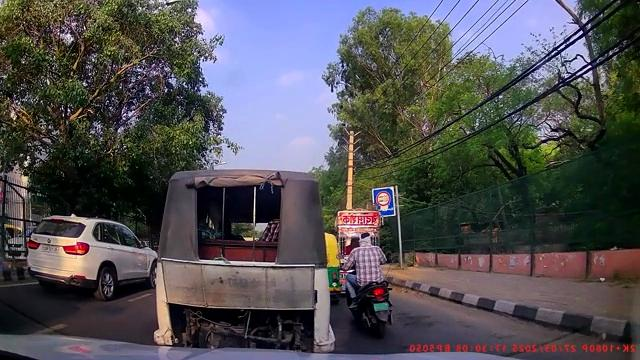motorcycle_without_helmet: (342, 232, 395, 339)
